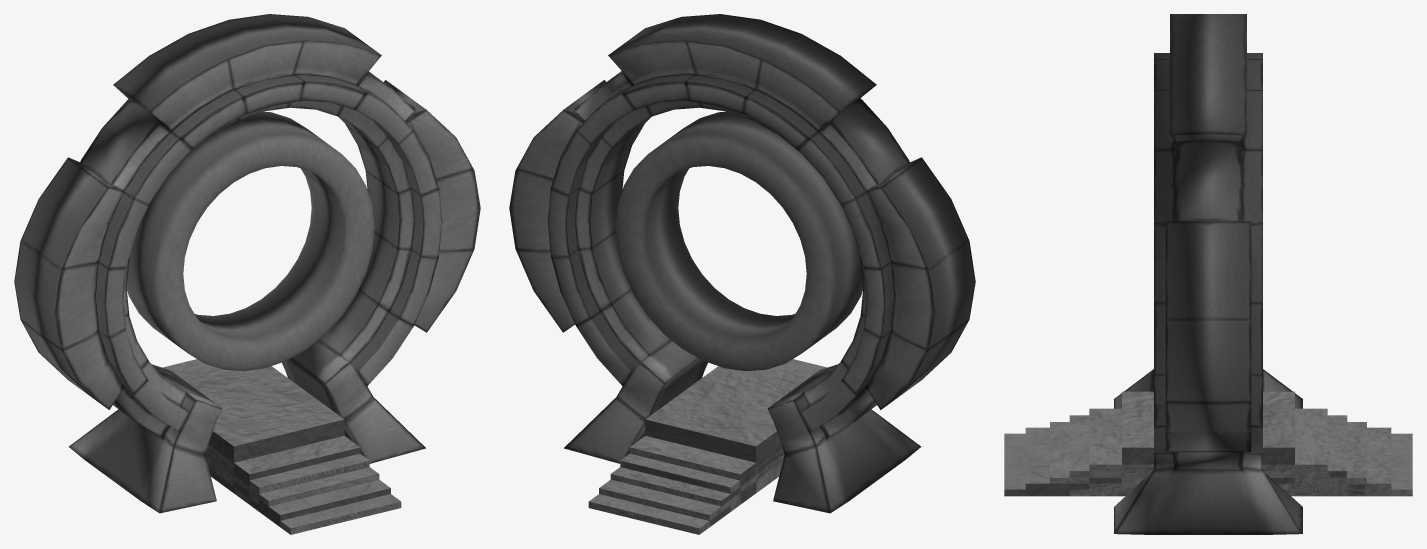
The model's file is portal bulet.fbx.
3 renders of one model, left to right at view 1: azimuth 30°, elevation 25°; view 2: azimuth 150°, elevation 25°; view 3: azimuth 270°, elevation 25°, orthographic. The views are drawn at different scales.
Parts seen in each view (by area): view 1: Cylinder, Cube; view 2: Cylinder, Cube; view 3: Cylinder, Cube.
Part boxes in pixels (x1,y1,x2,y2): Cylinder: (14, 14, 480, 513); Cube: (162, 359, 401, 534); Cylinder: (509, 14, 975, 513); Cube: (588, 359, 827, 534); Cylinder: (1114, 14, 1302, 534); Cube: (1004, 391, 1412, 496).
Bounding box in the file's own units: 769 × 719 × 617.
